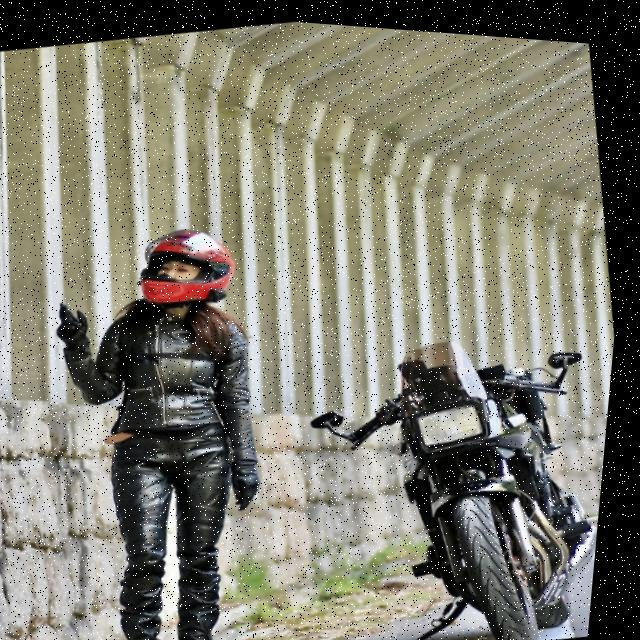helmet: (127, 210, 252, 318)
